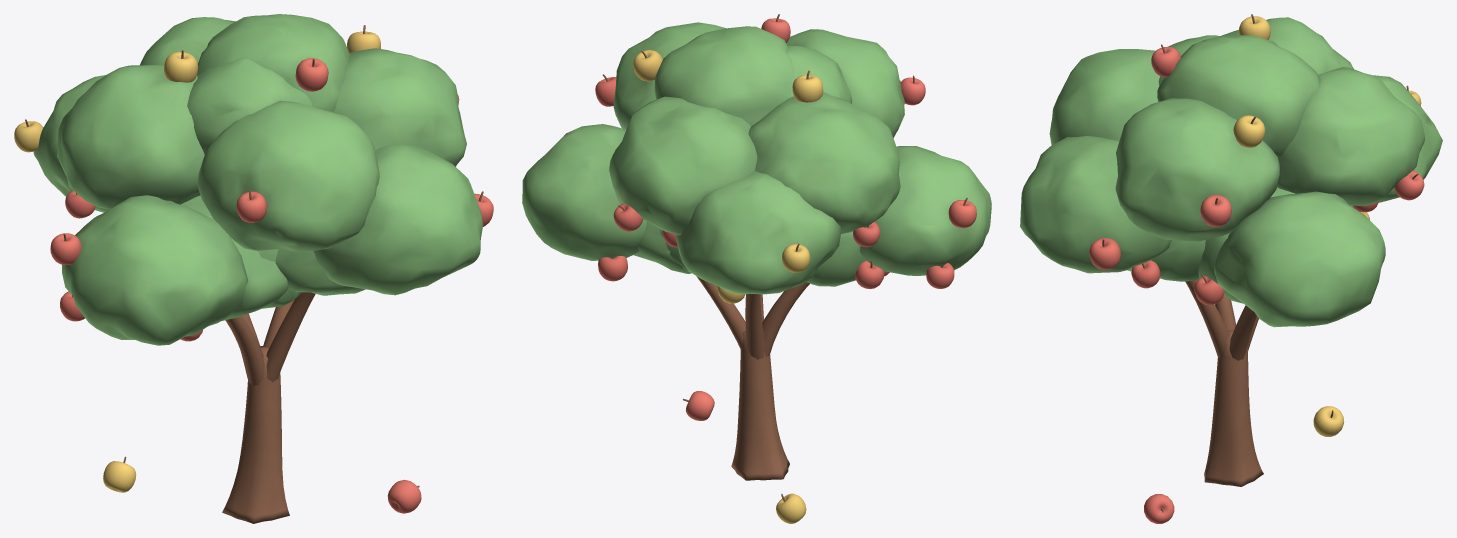
Rendered from apple-tree.glb.
The picture shows the model from 3 angles, left to right: view 1: azimuth 30°, elevation 25°; view 2: azimuth 150°, elevation 25°; view 3: azimuth 270°, elevation 25°; orthographic projection. The views are drawn at different scales.
Visible parts, largest first — view 1: apple-tree_body; view 2: apple-tree_body; view 3: apple-tree_body.
Part boxes in pixels (<box>): apple-tree_body: <box>14,14,493,523</box>; apple-tree_body: <box>522,14,991,523</box>; apple-tree_body: <box>1020,14,1442,523</box>.
Bounding box in the file's own units: 3.89 × 4.02 × 3.49.
1 material, 1 textured.
